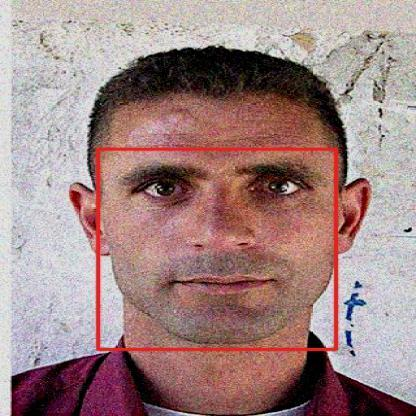without_mask: (98, 149, 336, 349)
